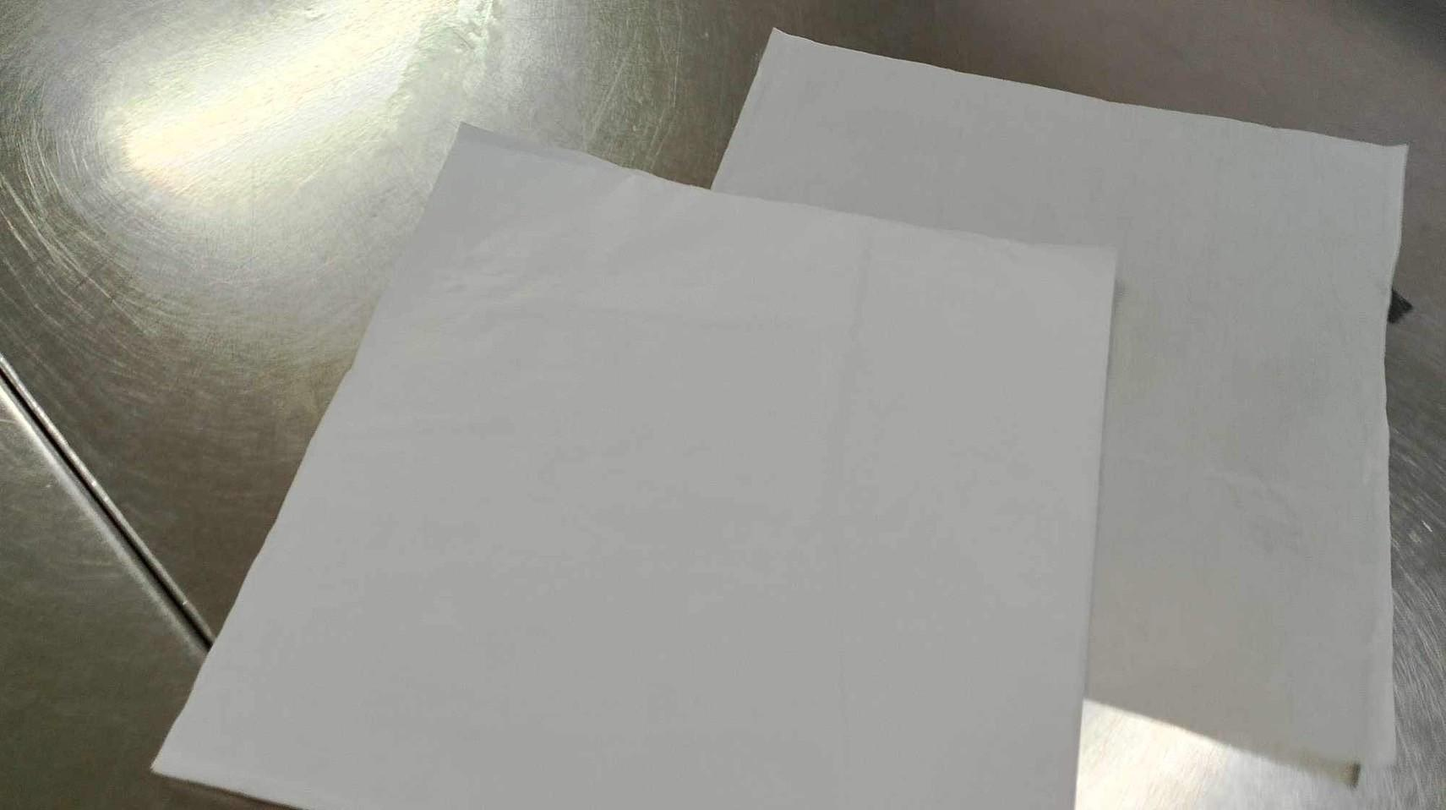Infectious: (148, 119, 1121, 807), (707, 27, 1410, 783)
Sharps: (1, 351, 219, 653)
